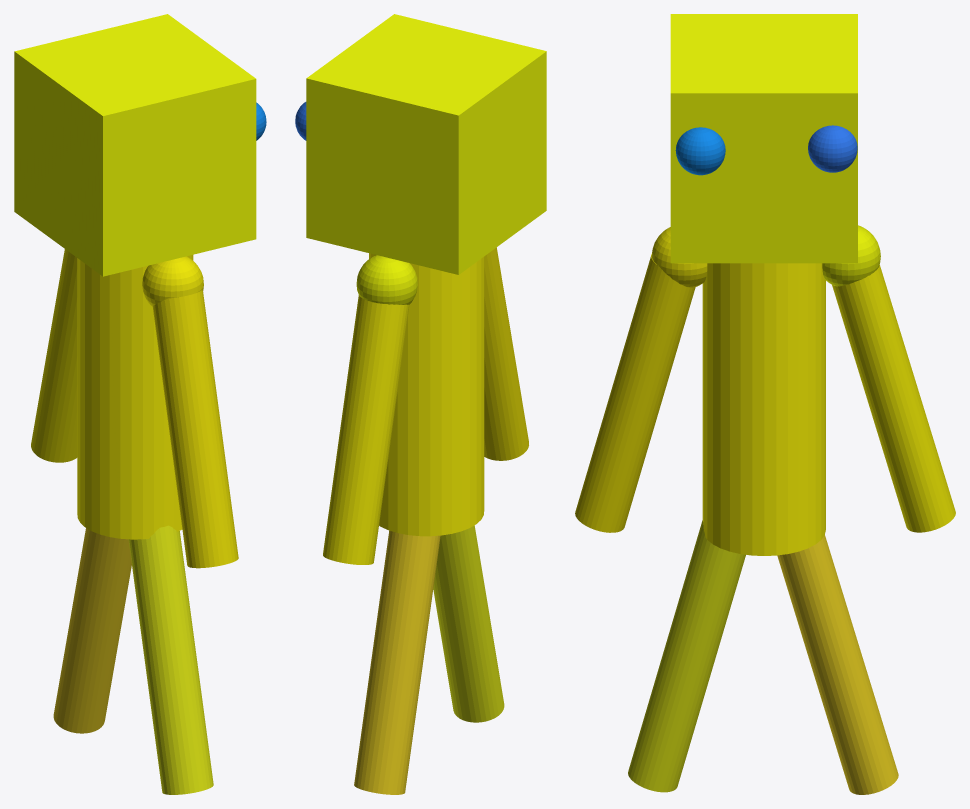
Rendered from RobotB_editable.fbx.
3 views of the same model, side by side, from view 1: azimuth 30°, elevation 25°; view 2: azimuth 150°, elevation 25°; view 3: azimuth 270°, elevation 25° (orthographic). The views are drawn at different scales.
Visible parts, largest first — view 1: Cubo, Cilindro, Cilindro.001, Cilindro.003, Cilindro.004, Cilindro.002, Esfera.002; view 2: Cubo, Cilindro, Cilindro.002, Cilindro.004, Cilindro.003, Cilindro.001, Esfera.003; view 3: Cubo, Cilindro, Cilindro.001, Cilindro.002, Cilindro.004, Cilindro.003, Esfera, Esfera.001, Esfera.003, Esfera.002.
Part boxes in pixels (x1,y1,x2,y2): Cubo: (14, 14, 256, 276); Cilindro: (77, 255, 193, 539); Cilindro.001: (153, 290, 238, 568); Cilindro.003: (128, 525, 213, 794); Cilindro.004: (53, 528, 131, 733); Cilindro.002: (31, 249, 77, 462); Esfera.002: (142, 256, 203, 306); Cubo: (306, 14, 546, 274); Cilindro: (369, 253, 484, 536); Cilindro.002: (323, 295, 409, 564); Cilindro.004: (354, 530, 440, 794); Cilindro.003: (433, 525, 504, 722); Cilindro.001: (484, 247, 528, 460); Esfera.003: (356, 255, 417, 304); Cubo: (670, 14, 857, 263); Cilindro: (702, 263, 825, 555); Cilindro.001: (575, 254, 695, 532); Cilindro.002: (832, 265, 955, 532); Cilindro.004: (777, 535, 898, 794); Cilindro.003: (628, 520, 745, 792); Esfera: (675, 127, 725, 175); Esfera.001: (808, 125, 857, 172); Esfera.003: (822, 225, 880, 286); Esfera.002: (651, 227, 707, 287).
Size of the model in its own units: 412 by 1567 by 735.
